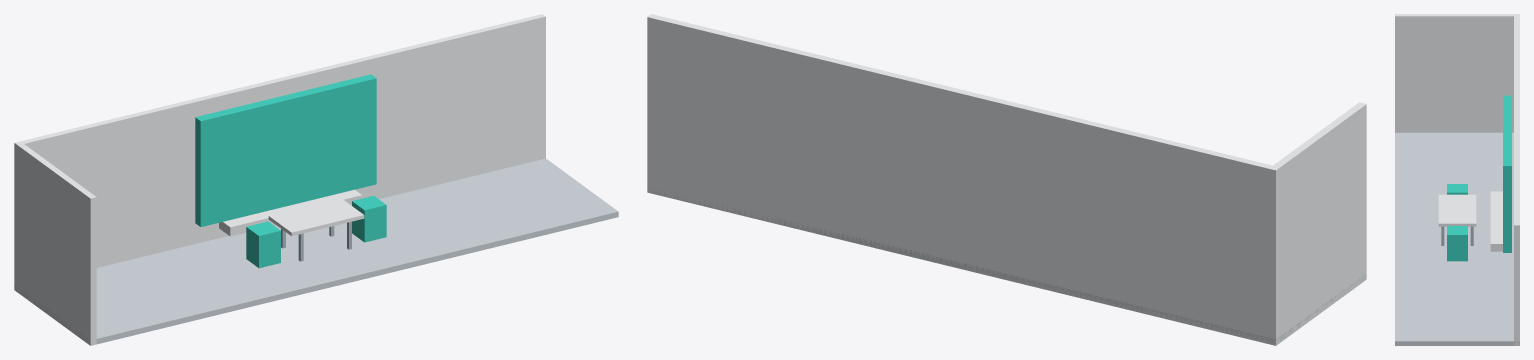
3 renders of one model, left to right at view 1: azimuth 30°, elevation 25°; view 2: azimuth 150°, elevation 25°; view 3: azimuth 270°, elevation 25°, orthographic. The views are drawn at different scales.
Parts seen in each view (by area): view 1: Exhibition Booth Concept; view 2: Exhibition Booth Concept; view 3: Exhibition Booth Concept.
Part boxes in pixels (left/top/right/bottom): Exhibition Booth Concept: left=14, top=14, right=618, bottom=345; Exhibition Booth Concept: left=647, top=14, right=1366, bottom=345; Exhibition Booth Concept: left=1395, top=14, right=1519, bottom=345.
Bounding box in the file's own units: 12 × 3.2 × 3.
